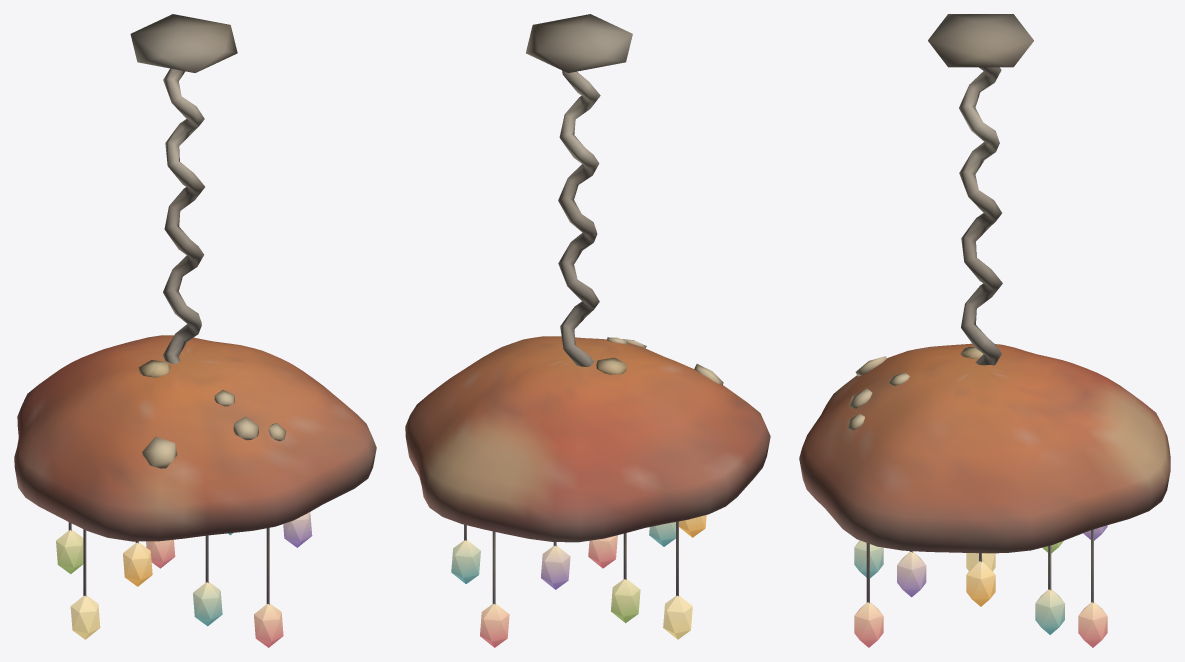
File: spor_fener.glb
The picture shows the model from 3 angles, left to right: view 1: azimuth 30°, elevation 25°; view 2: azimuth 150°, elevation 25°; view 3: azimuth 270°, elevation 25°; orthographic projection. The views are drawn at different scales.
Visible parts, largest first — view 1: spor_fener_LOD0; view 2: spor_fener_LOD0; view 3: spor_fener_LOD0.
Boxes of the visible parts, bbox=[...] form: spor_fener_LOD0: bbox=[14, 14, 376, 647]; spor_fener_LOD0: bbox=[405, 14, 770, 647]; spor_fener_LOD0: bbox=[799, 14, 1170, 647].
Size of what is drawn, in the model's own units: 0.5354 by 0.9695 by 0.5362.
